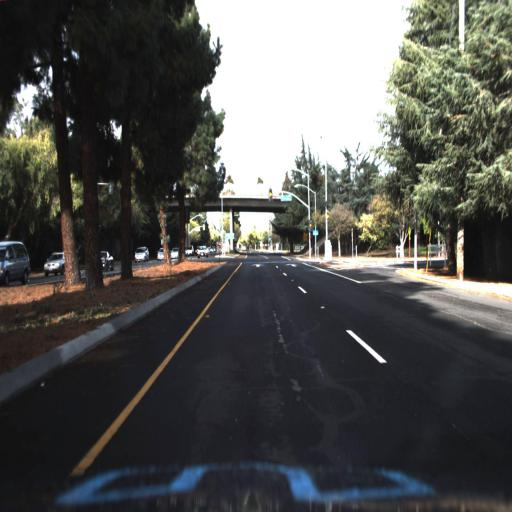car: (0, 238, 31, 285), (41, 251, 69, 276), (99, 246, 115, 273), (132, 243, 150, 265), (133, 245, 151, 263), (196, 241, 212, 259), (186, 240, 198, 259), (146, 238, 157, 258), (170, 247, 180, 261)
trafficLight-Yellow: (267, 183, 273, 207)
